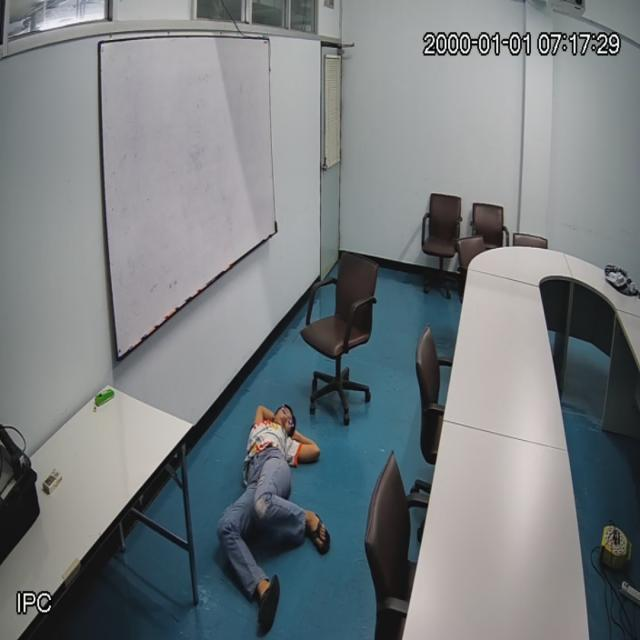fall: (220, 403, 323, 594)
